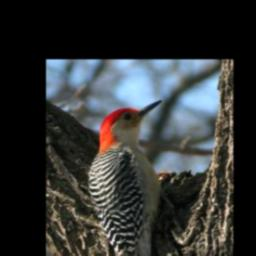Woodpecker: (85, 97, 177, 256)
